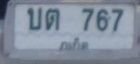txt16: (44, 7, 61, 30)
txt21: (26, 7, 43, 31)
